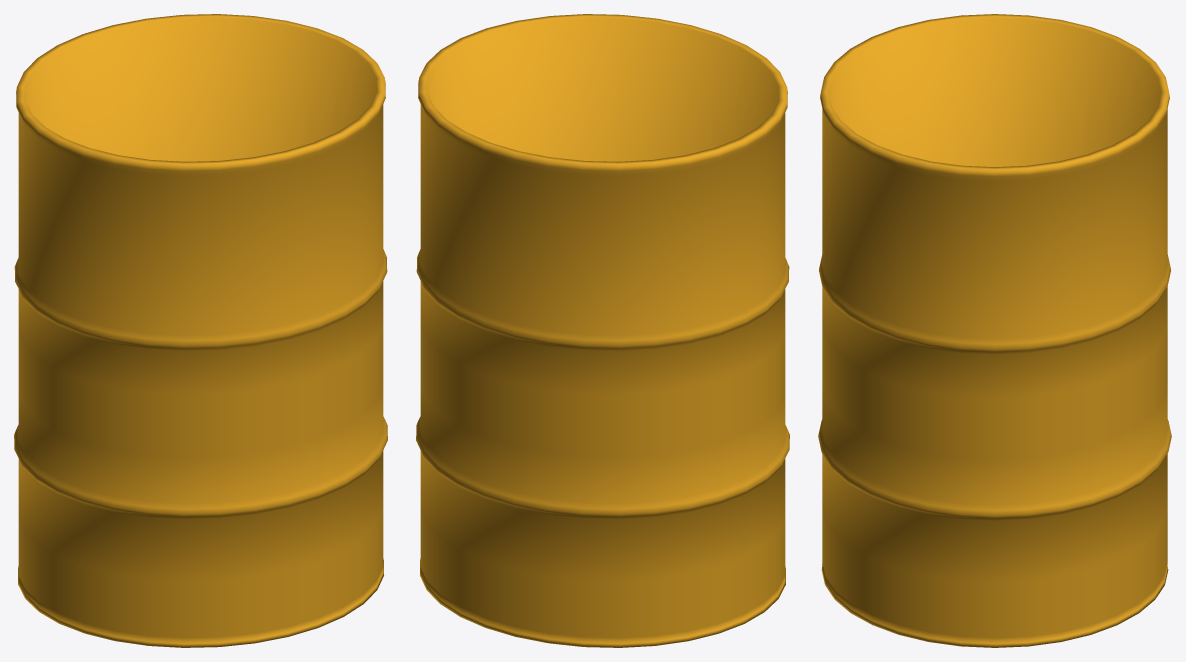
The model's file is Barrel.fbx.
3 renders of one model, left to right at view 1: azimuth 30°, elevation 25°; view 2: azimuth 150°, elevation 25°; view 3: azimuth 270°, elevation 25°, orthographic.
Visible parts, largest first — view 1: Barrel; view 2: Barrel; view 3: Barrel.
Boxes of the visible parts, x1,y1,x2,y2 form: Barrel: [14, 14, 387, 647]; Barrel: [416, 14, 789, 647]; Barrel: [818, 14, 1171, 647].
Size of the model in its own units: 244 by 341 by 229.
